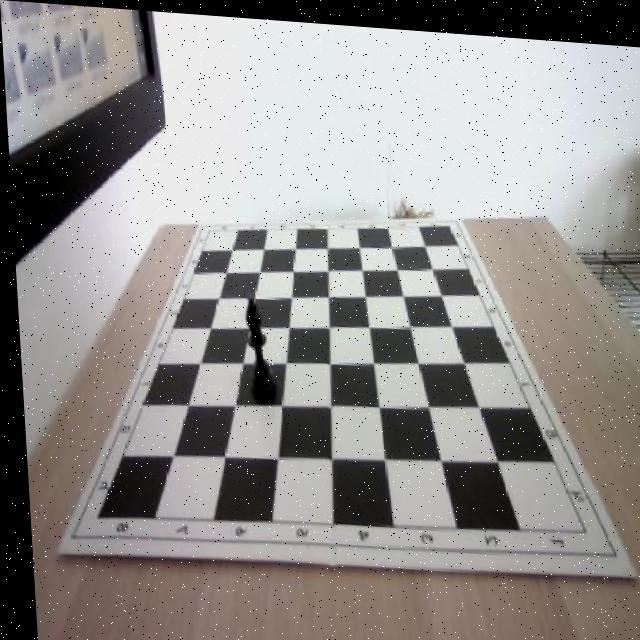bishop: (238, 290, 273, 396)
